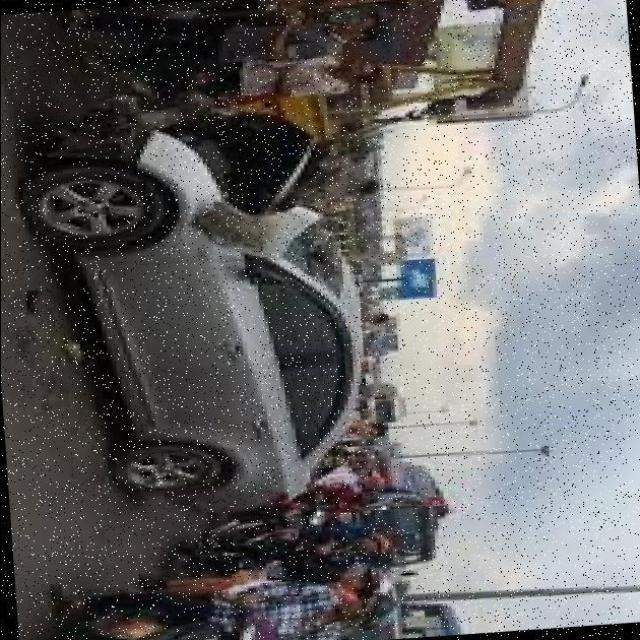accident: (4, 54, 392, 336)
